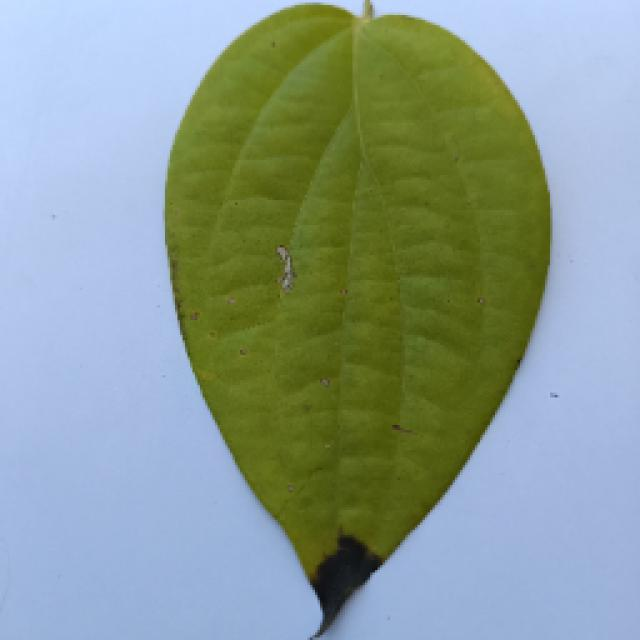slow-decline: (162, 2, 548, 620)
